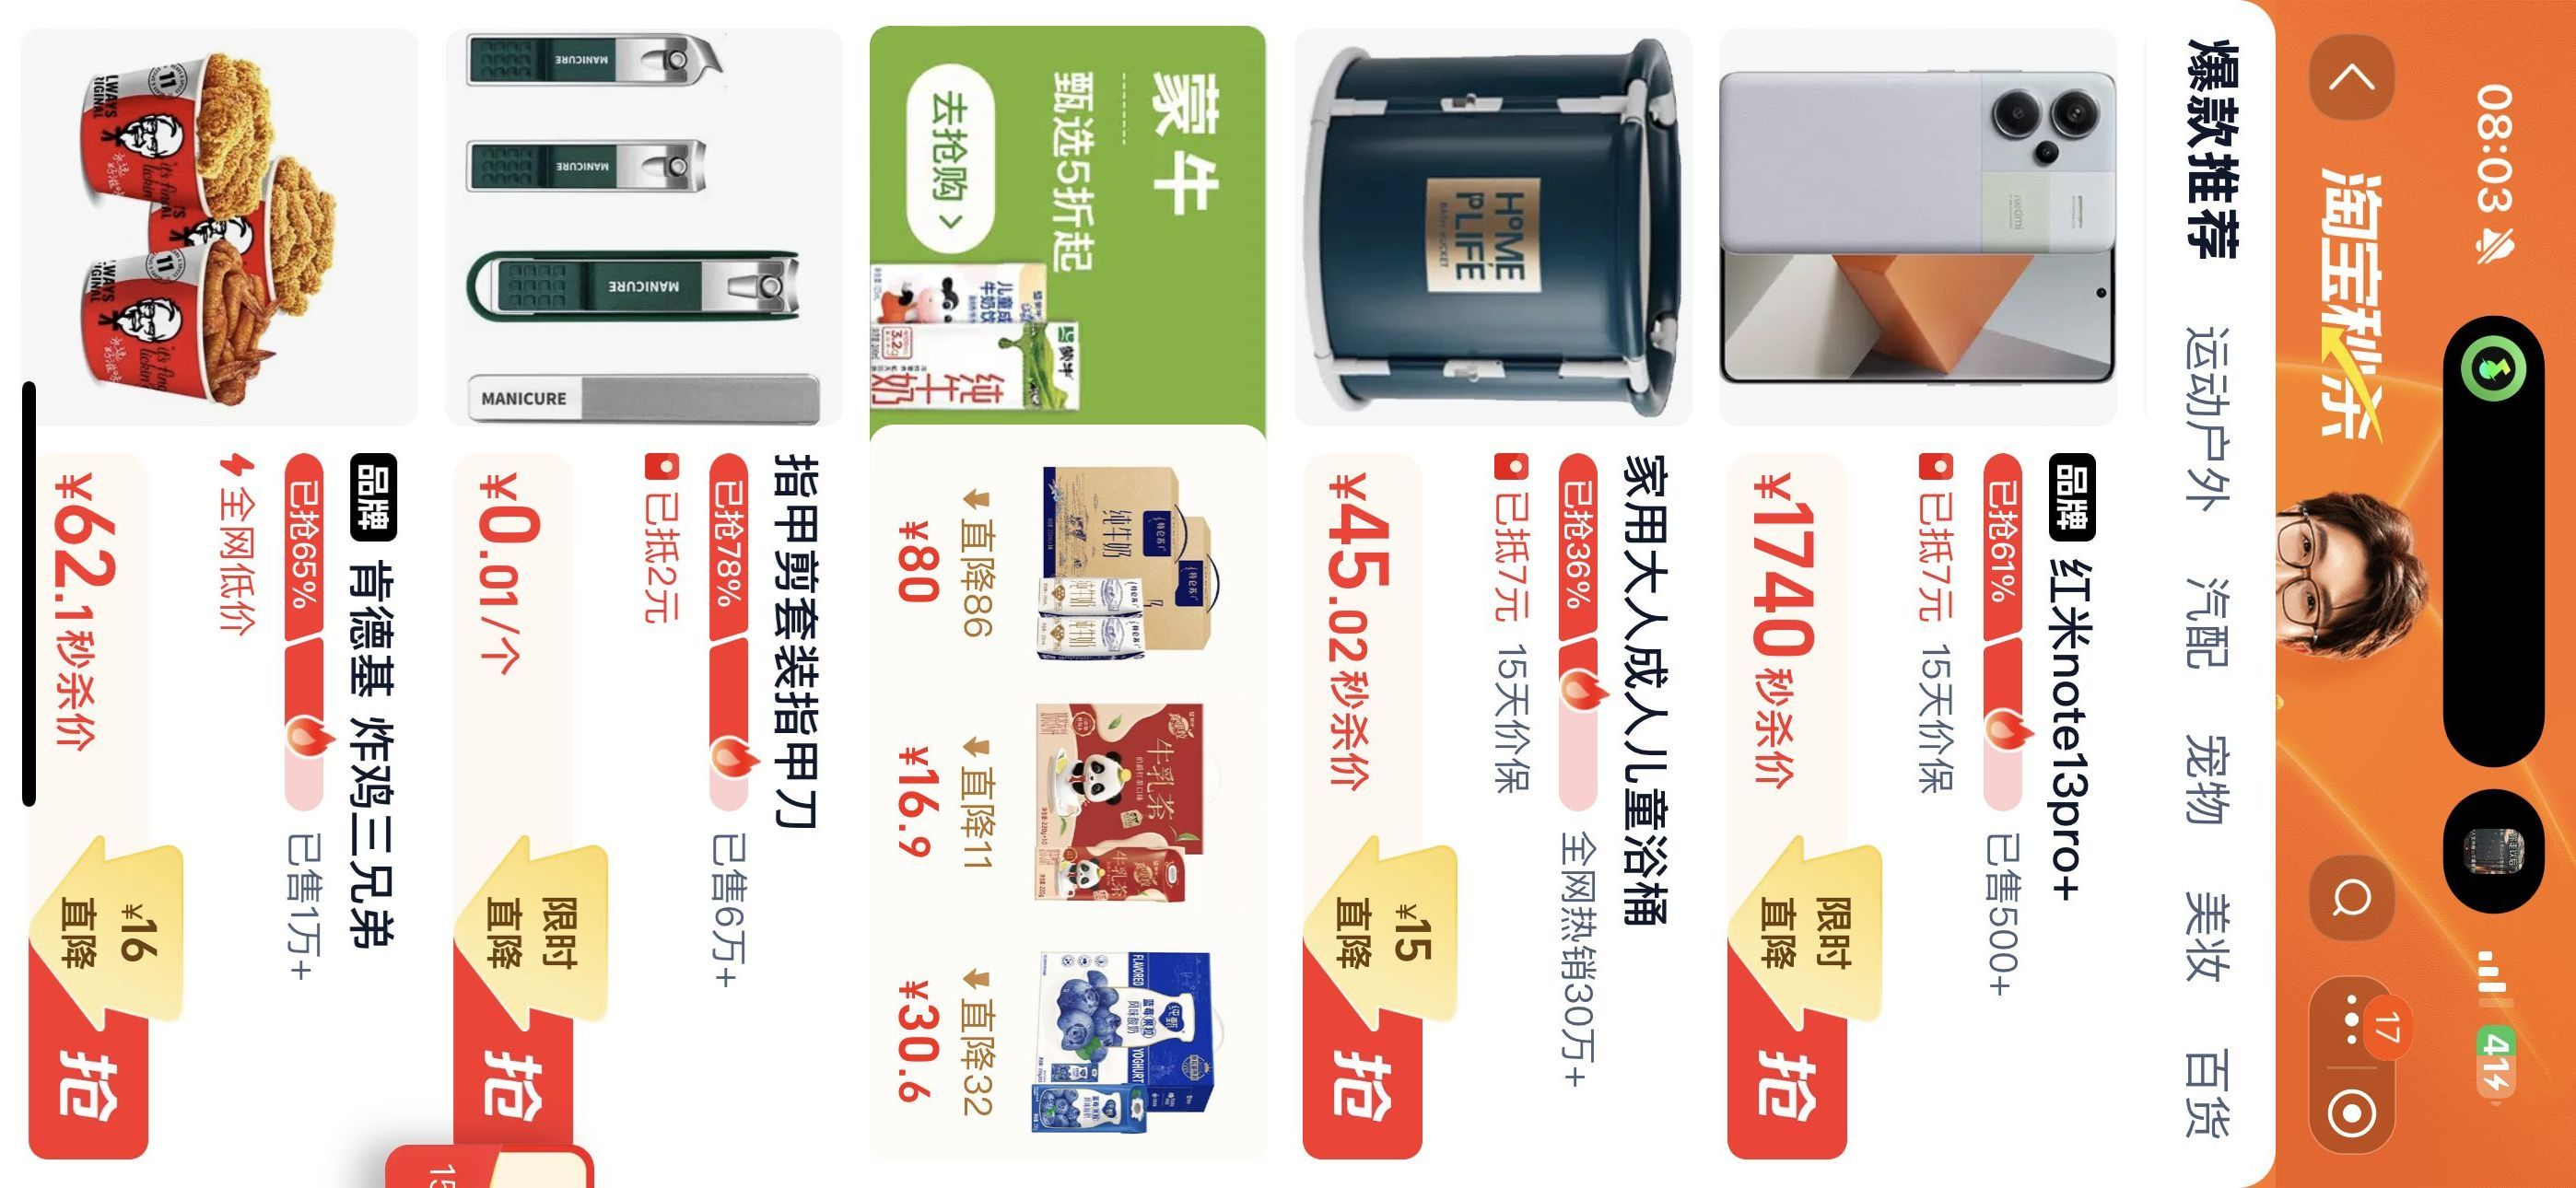banner: (867, 16, 1275, 1172)
item: (1710, 26, 2146, 1178), (18, 28, 435, 1175), (1290, 30, 1694, 1172), (447, 26, 851, 1168)
op_bar: (2285, 2, 2418, 1153)
